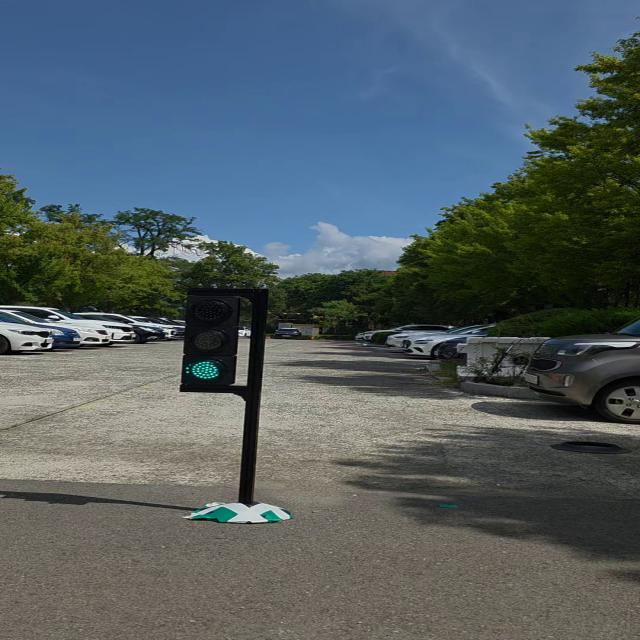green: (179, 292, 237, 391)
